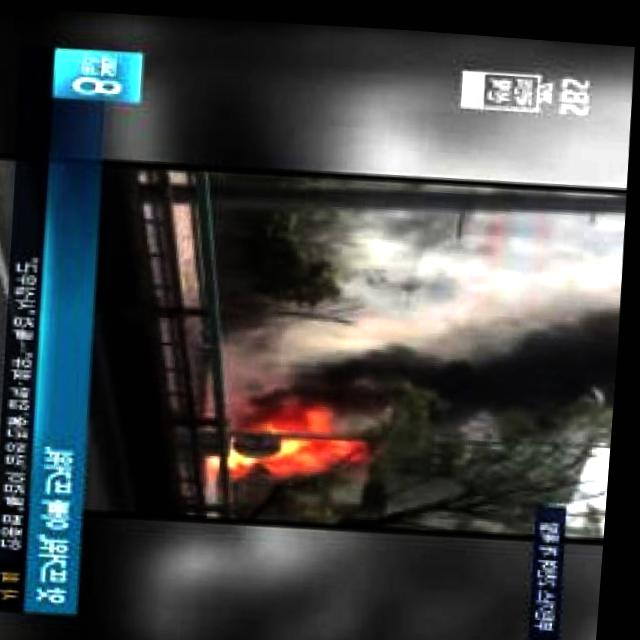Fire: (207, 390, 373, 487)
Smoke: (207, 389, 399, 490)
